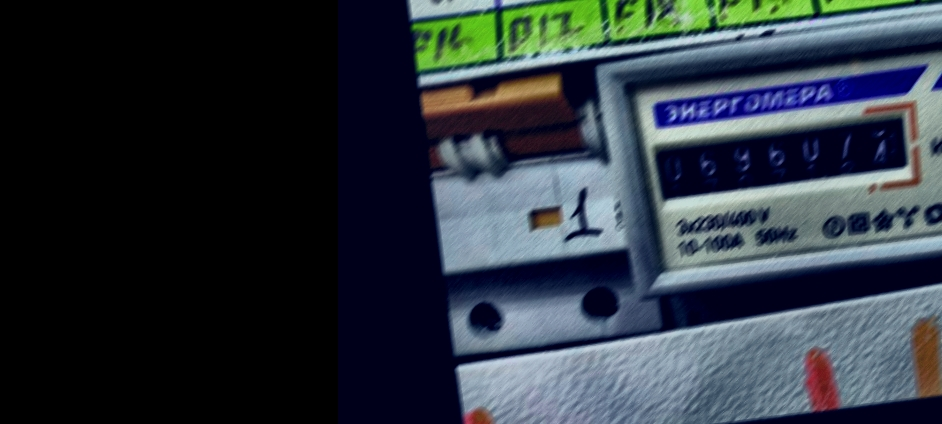0: (799, 131, 822, 164), (662, 153, 683, 183)
4: (870, 138, 889, 167)
6: (696, 147, 719, 177), (765, 138, 787, 169)
7: (835, 129, 856, 161)
9: (731, 144, 752, 174)
screen: (636, 94, 931, 219)
